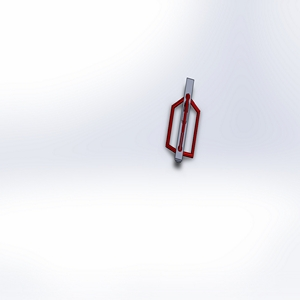submarine: (153, 72, 226, 181)
